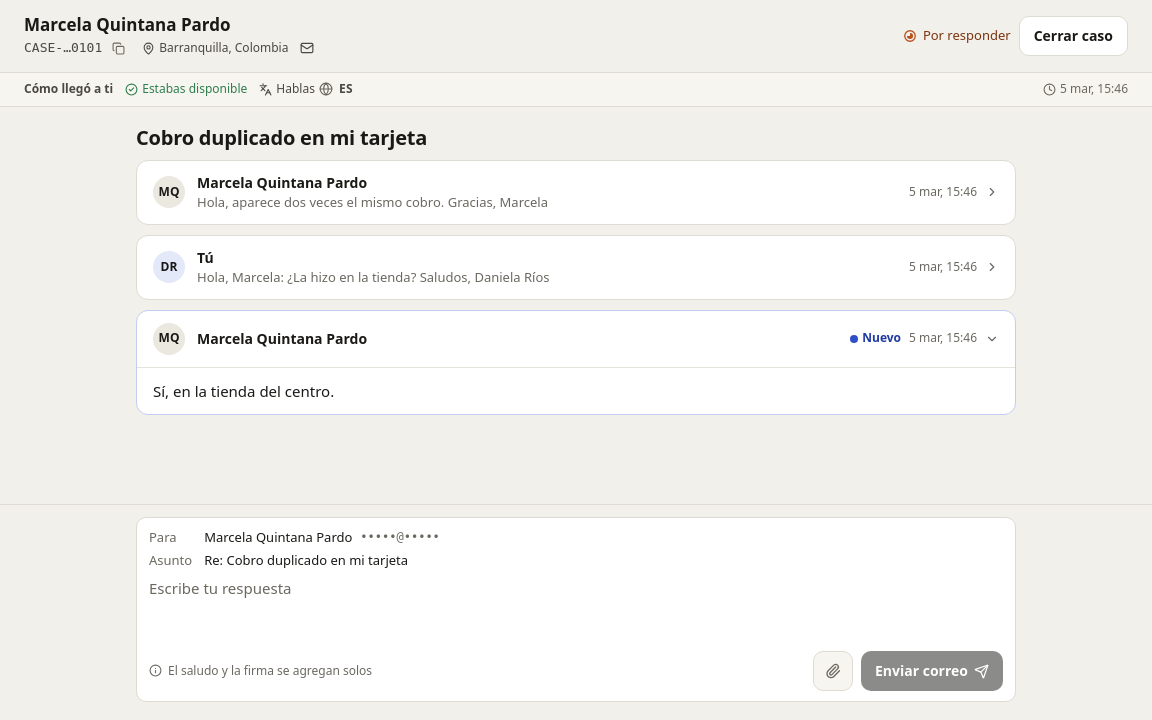
ConversationPane · email (slice 12) › replies by email: "Para" hidden, "Re: …", greeting and signature added, attach "Pronto"
Expected: the form named "Responder por correo" shows "Re: Cobro duplicado en mi tarjeta", [204,551,408,569]
Expected: the form named "Responder por correo" shows "El saludo y la firma se agregan solos", [168,662,372,679]
In the text box named "Respuesta por correo": (576, 610) [149,578,1003,643], type "Ya pedimos el reverso."
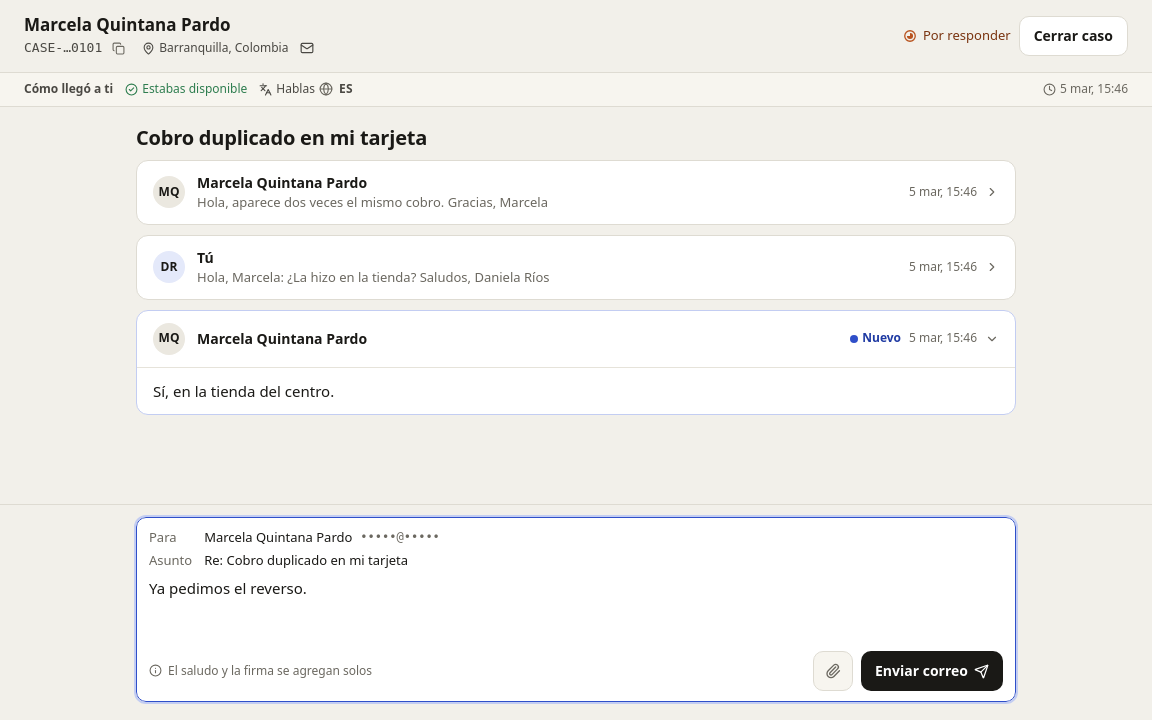
Click the button "Enviar correo": (932, 671) [861,651,1003,691]
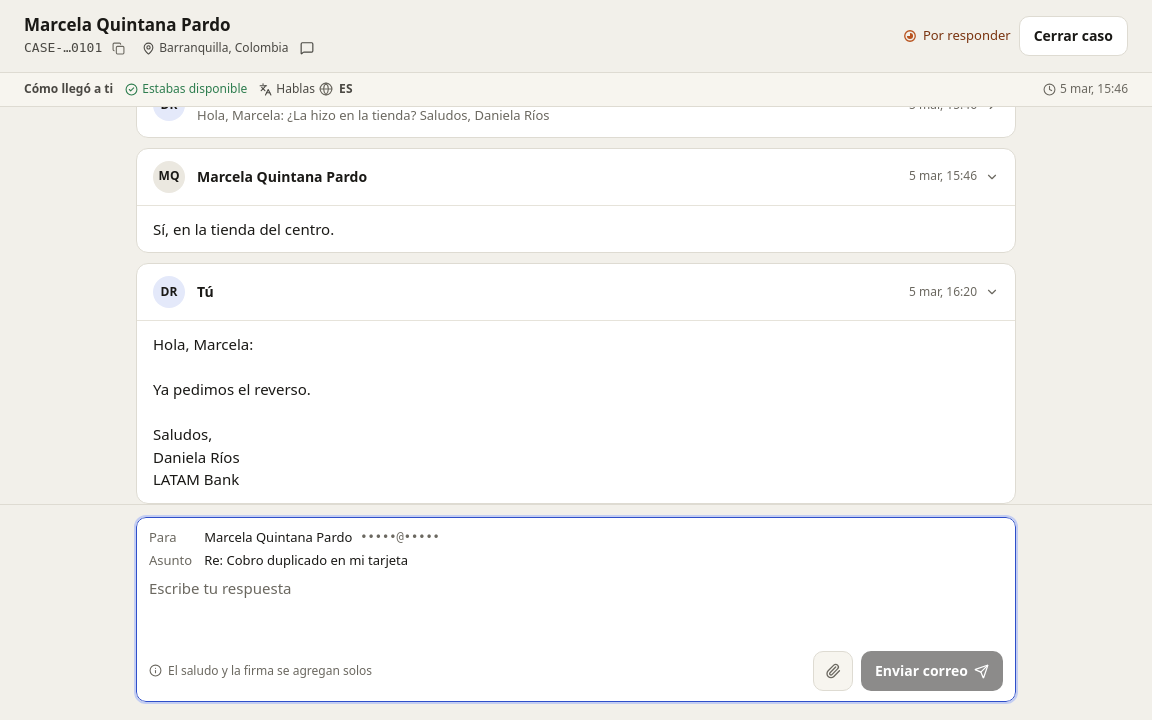
Expected: the element named "Correo de Tú" shows "Ya pedimos el reverso.", [153,334,311,489]
Expected: the text "Nuevo" is gone
